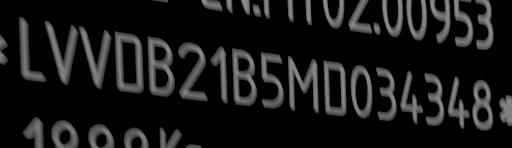letter: (42, 18, 80, 87), (285, 51, 321, 116), (16, 12, 48, 84), (78, 23, 112, 90), (112, 27, 146, 94), (144, 32, 176, 99), (176, 38, 208, 102), (229, 43, 259, 109), (256, 46, 286, 111), (321, 55, 349, 118), (348, 62, 374, 121), (399, 67, 425, 125), (446, 73, 472, 129), (422, 69, 446, 129), (374, 64, 398, 124), (470, 77, 494, 132), (210, 42, 230, 104)
